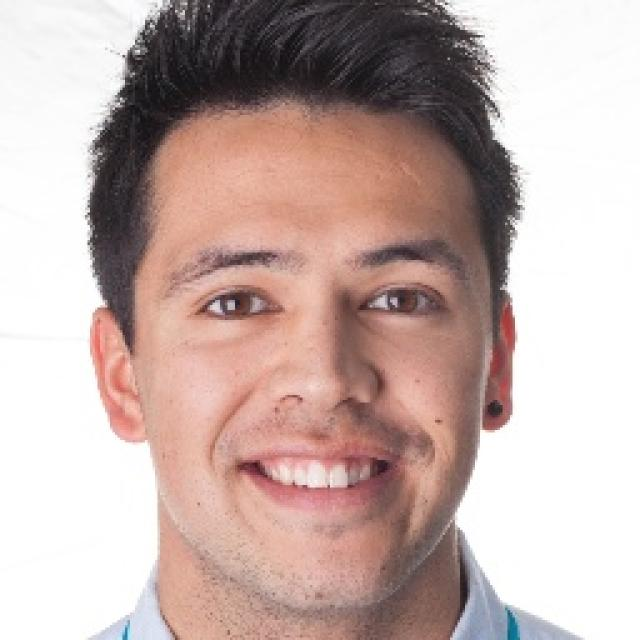earlobe: (478, 379, 515, 432), (111, 397, 152, 444)
eye: (191, 282, 285, 325), (357, 285, 452, 321)
nose: (274, 393, 370, 433)
wholeear: (88, 308, 152, 444), (478, 290, 518, 431)
